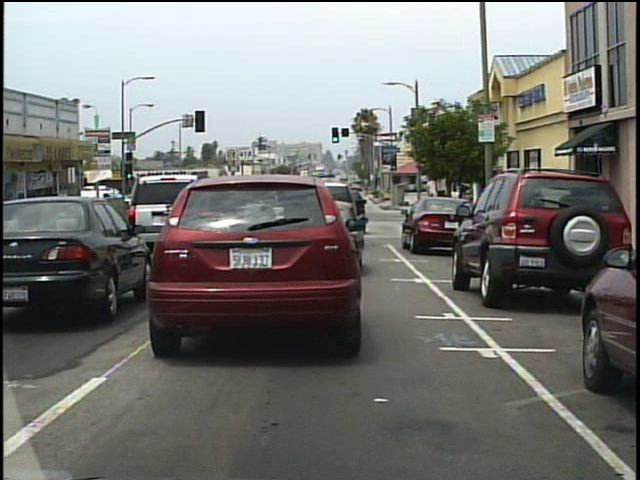person: (461, 187, 476, 220), (445, 191, 458, 229), (437, 192, 448, 229)
